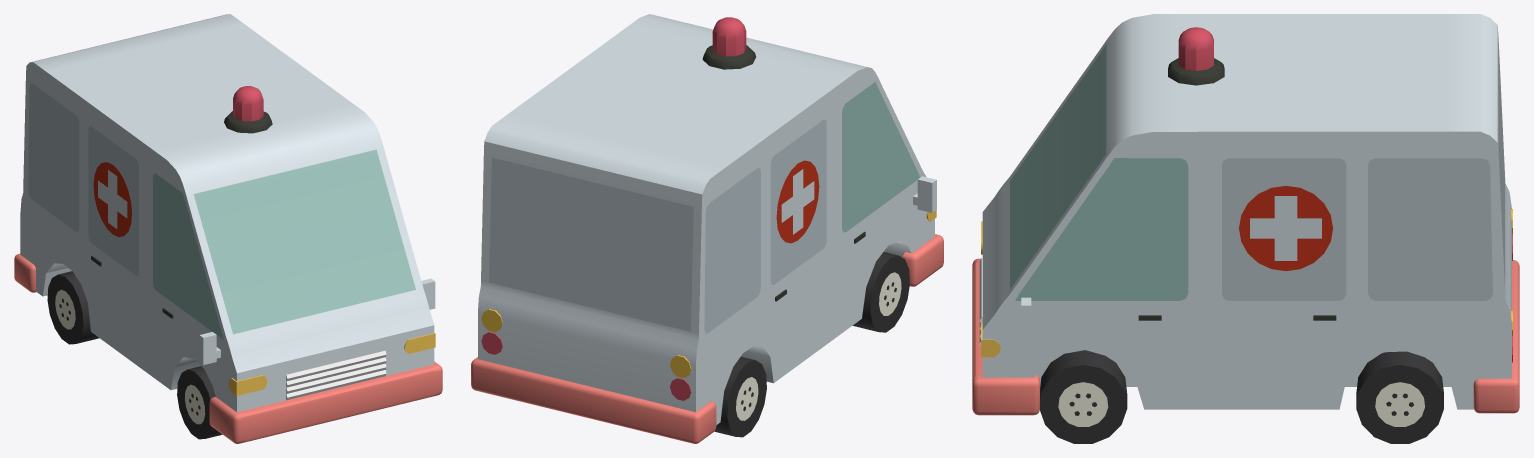
File: ambulance.glb
The picture shows the model from 3 angles, left to right: view 1: azimuth 30°, elevation 25°; view 2: azimuth 150°, elevation 25°; view 3: azimuth 270°, elevation 25°; orthographic projection. The views are drawn at different scales.
Parts seen in each view (by area): view 1: ambulance_ambulance_1_0, ambulance_window.001_0, ambulance_ambulance_2_0, ambulance_bumper_0, ambulance_wheel_1_0, ambulance_radiator.001_0, ambulance_van_red_0, ambulance_wheel_3_0, ambulance_far_front_0, ambulance_red_far.001_0, ambulance_plastic_0; view 2: ambulance_ambulance_1_0, ambulance_ambulance_2_0, ambulance_bumper_0, ambulance_window.001_0, ambulance_wheel_1_0, ambulance_red_far.001_0, ambulance_van_red_0, ambulance_wheel_3_0, ambulance_plastic_0, ambulance_yellow_far_0; view 3: ambulance_ambulance_1_0, ambulance_ambulance_2_0, ambulance_window.001_0, ambulance_wheel_1_0, ambulance_bumper_0, ambulance_van_red_0, ambulance_wheel_3_0, ambulance_red_far.001_0, ambulance_plastic_0.
Boxes of the visible parts, bbox=[...] form: ambulance_ambulance_1_0: bbox=[20, 14, 435, 412]; ambulance_window.001_0: bbox=[153, 149, 415, 339]; ambulance_ambulance_2_0: bbox=[28, 83, 138, 275]; ambulance_bumper_0: bbox=[14, 253, 442, 443]; ambulance_wheel_1_0: bbox=[47, 271, 222, 439]; ambulance_radiator.001_0: bbox=[286, 350, 386, 400]; ambulance_van_red_0: bbox=[93, 162, 131, 236]; ambulance_wheel_3_0: bbox=[55, 289, 205, 424]; ambulance_far_front_0: bbox=[228, 333, 435, 395]; ambulance_red_far.001_0: bbox=[233, 86, 263, 121]; ambulance_plastic_0: bbox=[91, 111, 272, 318]; ambulance_ambulance_1_0: bbox=[478, 14, 936, 424]; ambulance_ambulance_2_0: bbox=[489, 119, 826, 333]; ambulance_bumper_0: bbox=[471, 234, 943, 443]; ambulance_window.001_0: bbox=[842, 82, 919, 232]; ambulance_wheel_1_0: bbox=[714, 252, 909, 437]; ambulance_red_far.001_0: bbox=[481, 17, 746, 400]; ambulance_van_red_0: bbox=[776, 160, 819, 243]; ambulance_wheel_3_0: bbox=[736, 272, 901, 420]; ambulance_plastic_0: bbox=[702, 45, 865, 301]; ambulance_yellow_far_0: bbox=[481, 309, 691, 378]; ambulance_ambulance_1_0: bbox=[982, 14, 1511, 409]; ambulance_ambulance_2_0: bbox=[1222, 47, 1504, 300]; ambulance_window.001_0: bbox=[1010, 45, 1188, 300]; ambulance_wheel_1_0: bbox=[1040, 350, 1443, 443]; ambulance_bumper_0: bbox=[972, 258, 1519, 415]; ambulance_van_red_0: bbox=[1239, 186, 1332, 270]; ambulance_wheel_3_0: bbox=[1058, 382, 1424, 426]; ambulance_red_far.001_0: bbox=[1178, 27, 1512, 362]; ambulance_plastic_0: bbox=[1138, 58, 1336, 320].
Bounding box in the file's own units: 2.41 × 2.88 × 4.02.
